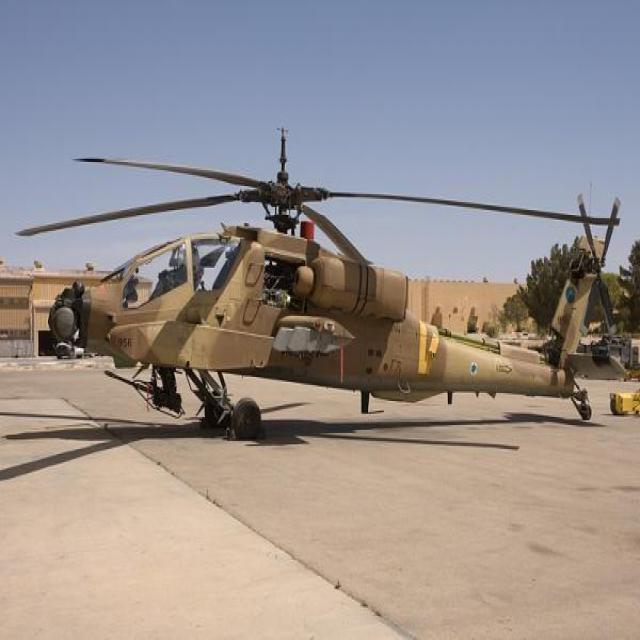MIL_HELO: (10, 128, 624, 436)
